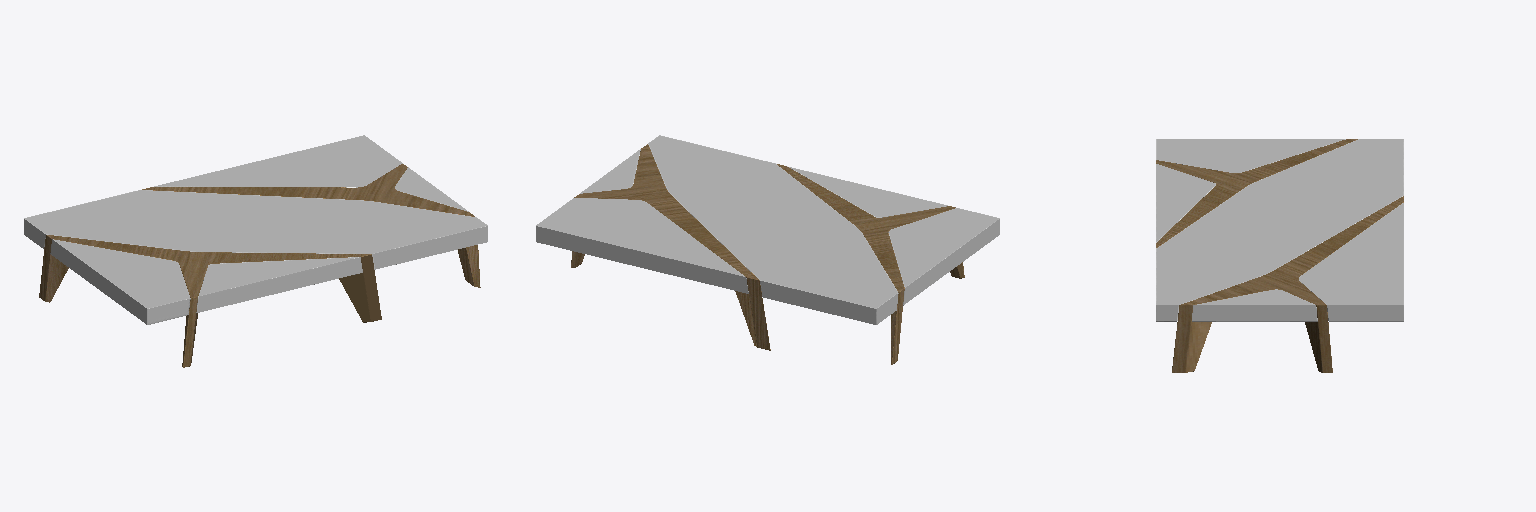
3 views of the same model, side by side, from view 1: azimuth 30°, elevation 25°; view 2: azimuth 150°, elevation 25°; view 3: azimuth 270°, elevation 25° (orthographic).
Visible parts, largest first — view 1: solid_002, solid_001; view 2: solid_002, solid_001; view 3: solid_002, solid_001.
Boxes of the visible parts, x1,y1,x2,y2 form: solid_002: [24, 135, 487, 324]; solid_001: [39, 164, 480, 367]; solid_002: [536, 135, 999, 324]; solid_001: [571, 144, 964, 364]; solid_002: [1156, 139, 1403, 321]; solid_001: [1156, 139, 1403, 372].
Bounding box in the file's own units: 1.31 × 0.2501 × 0.8271.
1 materials, 1 textured.